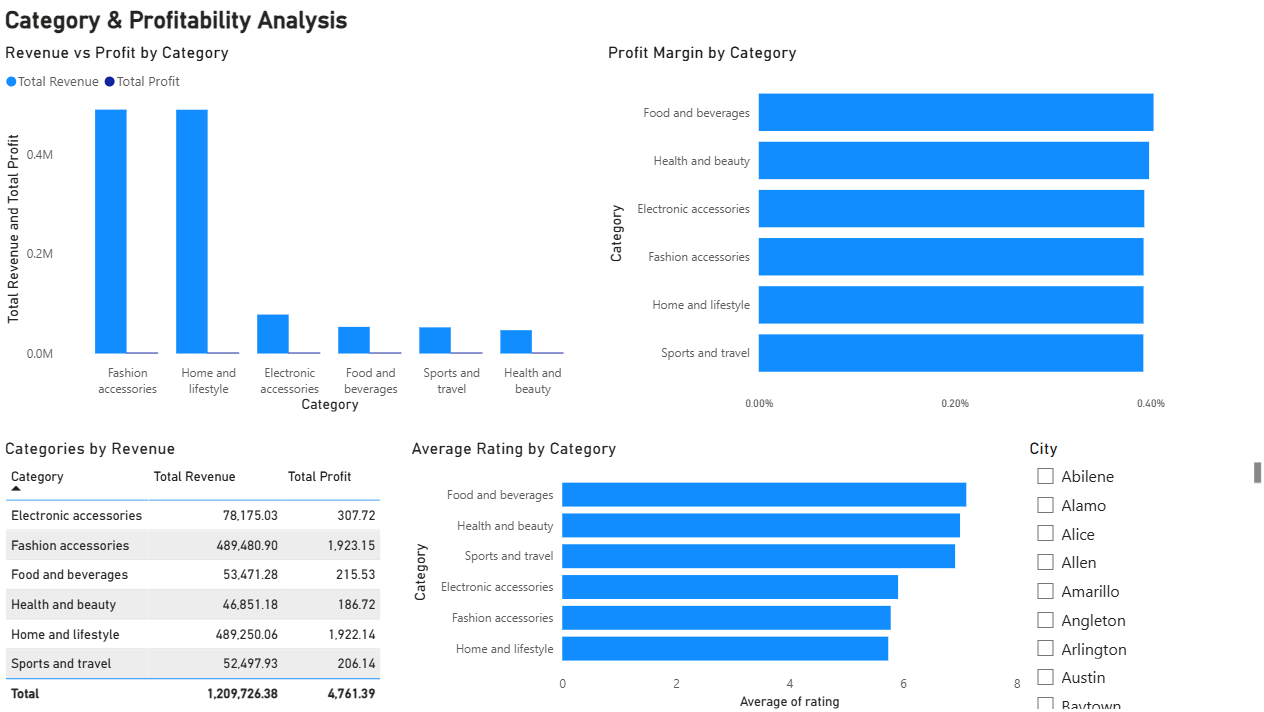

Layout of this report page (visuals, bound fields, positions):
{"tool":"powerbi","page":{"name":"Category & Profitability","canvas":[1280,720],"ordinal":1},"visuals":[{"type":"clusteredColumnChart","title":"Revenue vs Profit by Category","fields":{"Category":["public vw_walmart_clean.category"],"Y":["public vw_walmart_clean.Total Revenue","public vw_walmart_clean.Total Profit"]},"box":[0,41.7,608.3,378.3],"z":0},{"type":"clusteredBarChart","title":"Profit Margin by Category","fields":{"Y":["public vw_walmart_clean.Profit Margin %"],"Category":["public vw_walmart_clean.category"]},"box":[608.3,41.7,671.7,378.3],"z":1000},{"type":"tableEx","title":"Categories by Revenue","fields":{"Values":["public vw_walmart_clean.category","public vw_walmart_clean.Total Revenue","public vw_walmart_clean.Total Profit"]},"box":[0,441.7,410,278.3],"z":2000},{"type":"clusteredBarChart","title":"Average Rating by Category","fields":{"Category":["public vw_walmart_clean.category"],"Y":["Avg(public vw_walmart_clean.rating)"]},"box":[410,441.7,625,278.3],"z":3000},{"type":"slicer","title":"City","fields":{"Values":["public vw_walmart_clean.city"]},"box":[1035,441.7,245,278.3],"z":5000},{"type":"textbox","box":[0,0,1280,41.7],"z":5002}]}

Visuals, with their boxes in screenshot pixels (x1, y1, x2, y2), scaled from the page's 1280x720 canvas onto the 1264x712 screenshot:
"Revenue vs Profit by Category" clusteredColumnChart: <region>0, 41, 601, 415</region>
"Profit Margin by Category" clusteredBarChart: <region>601, 41, 1263, 415</region>
"Categories by Revenue" tableEx: <region>0, 437, 405, 711</region>
"Average Rating by Category" clusteredBarChart: <region>405, 437, 1022, 711</region>
"City" slicer: <region>1022, 437, 1263, 711</region>
textbox: <region>0, 0, 1263, 41</region>
